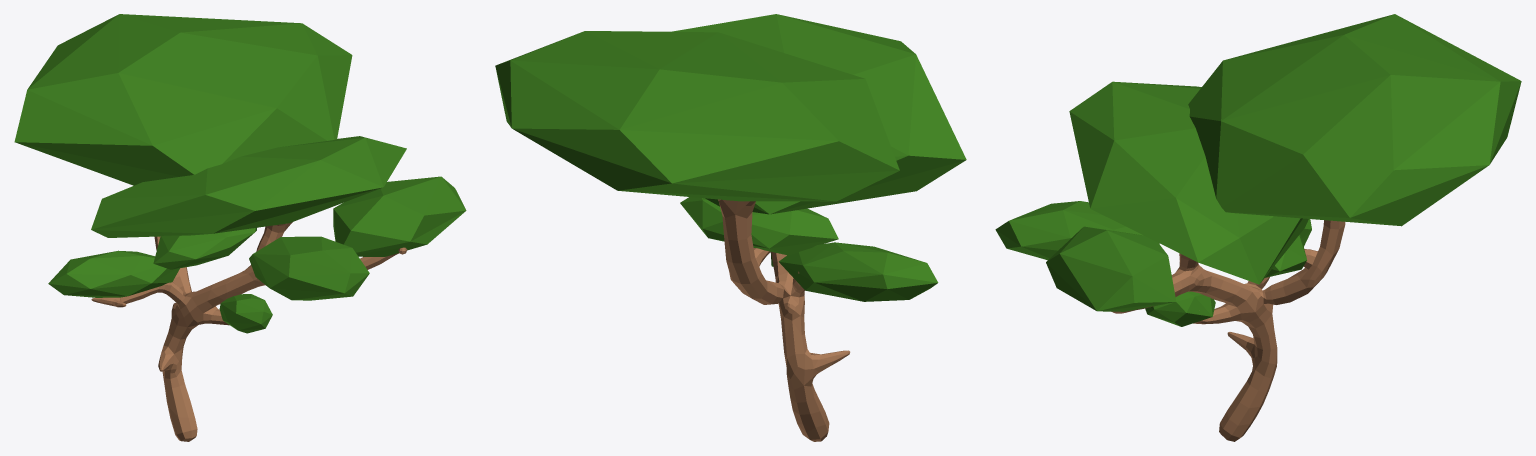
File: treethree.fbx
The picture shows the model from 3 angles, left to right: view 1: azimuth 30°, elevation 25°; view 2: azimuth 150°, elevation 25°; view 3: azimuth 270°, elevation 25°; orthographic projection. The views are drawn at different scales.
Parts seen in each view (by area): view 1: Icosphere.002, Icosphere.003, Icosphere.005, Cube, Icosphere.006, Icosphere, Icosphere.004, Icosphere.001; view 2: Icosphere.002, Icosphere.003, Cube, Icosphere, Icosphere.004; view 3: Icosphere.002, Icosphere.003, Cube, Icosphere.005, Icosphere.006, Icosphere.001, Icosphere.004.
Boxes of the visible parts, bbox=[...] form: Icosphere.002: bbox=[14, 14, 352, 185]; Icosphere.003: bbox=[91, 136, 406, 237]; Icosphere.005: bbox=[333, 176, 466, 256]; Cube: bbox=[91, 222, 407, 441]; Icosphere.006: bbox=[249, 236, 369, 300]; Icosphere: bbox=[48, 250, 179, 297]; Icosphere.004: bbox=[153, 227, 256, 269]; Icosphere.001: bbox=[219, 294, 272, 333]; Icosphere.002: bbox=[495, 31, 899, 201]; Icosphere.003: bbox=[672, 14, 966, 214]; Cube: bbox=[718, 199, 850, 441]; Icosphere: bbox=[779, 242, 938, 301]; Icosphere.004: bbox=[680, 197, 838, 255]; Icosphere.002: bbox=[1188, 14, 1521, 226]; Icosphere.003: bbox=[1069, 81, 1308, 284]; Cube: bbox=[1111, 220, 1345, 441]; Icosphere.005: bbox=[1046, 226, 1176, 311]; Icosphere.006: bbox=[995, 201, 1159, 260]; Icosphere.001: bbox=[1145, 291, 1215, 326]; Icosphere.004: bbox=[1265, 235, 1306, 277].
Bounding box in the file's own units: 2113 × 1997 × 2375.
